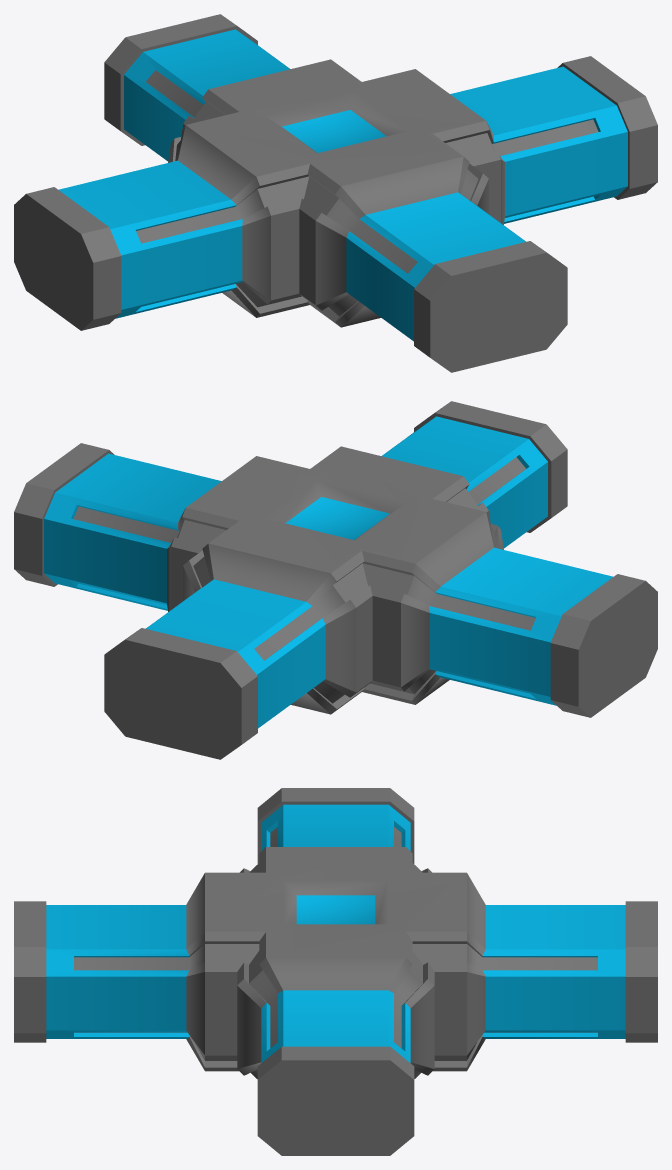
Rendered from _1Ship_PIece3.fbx.
3 views of the same model, one above another, from view 1: azimuth 30°, elevation 25°; view 2: azimuth 150°, elevation 25°; view 3: azimuth 270°, elevation 25° (orthographic).
Visible parts, largest first — view 1: Ship_PIece3; view 2: Ship_PIece3; view 3: Ship_PIece3.
Part boxes in pixels (x1,y1,x2,y2): Ship_PIece3: (14,14,657,372); Ship_PIece3: (14,401,657,759); Ship_PIece3: (14,788,657,1155).
Size of the model in its own units: 572 by 137 by 572.
